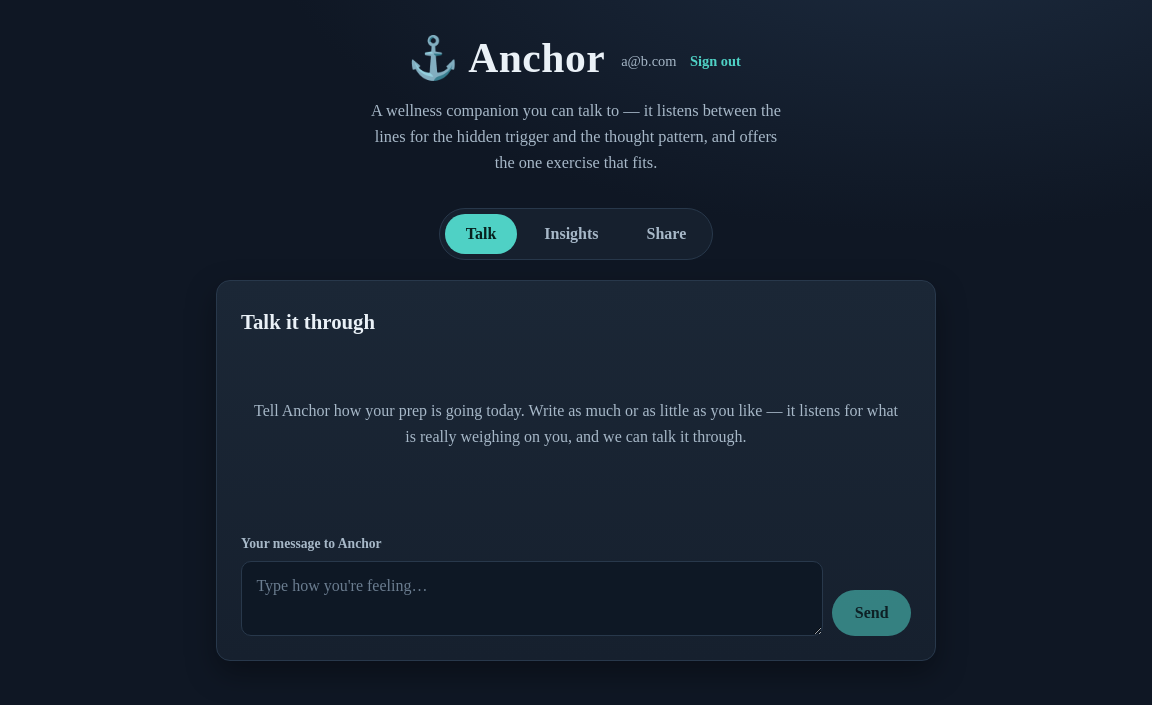
it: App › shows the crisis panel with a helpline on a crisis turn
expect the heading "Talk it through" is shown: met, box [241,310,375,333]
Step 1. Type "I want to give up" into the text box labelled "Your message to Anchor" → (532, 598), box [241,561,823,636]
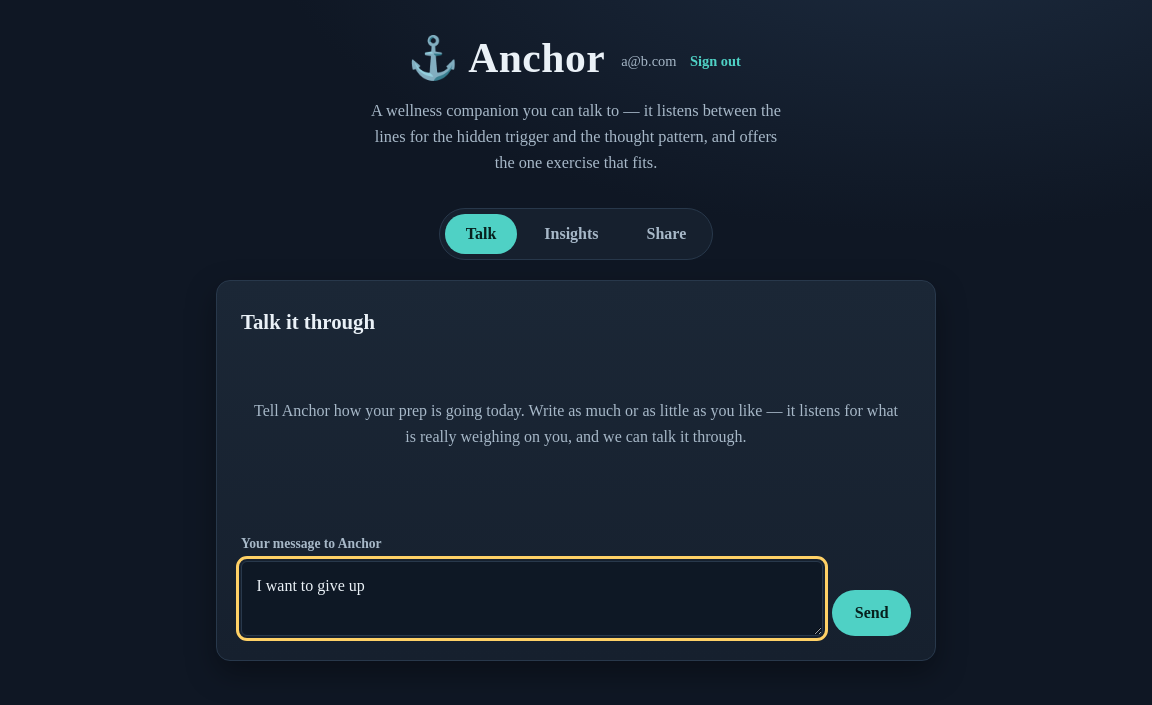
Step 2. Click the button "Send" → (872, 613), box [832,590,911,636]
(page scrolled)
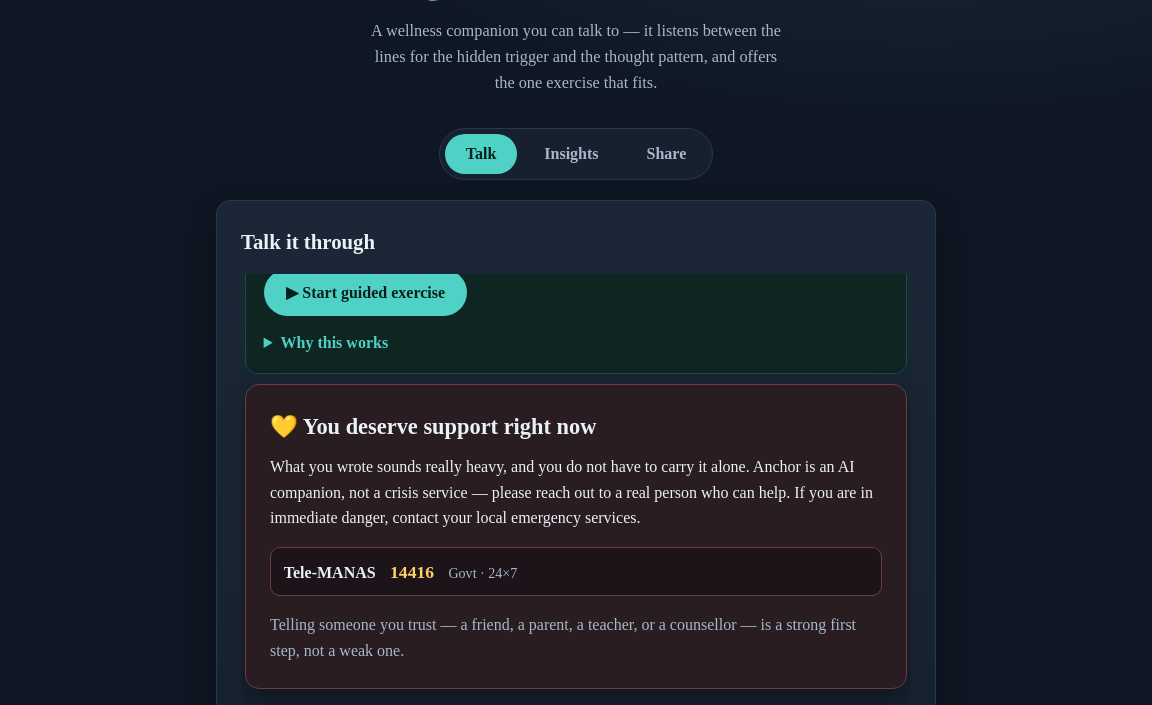
expect the message shows "deserve support": met, box [303,414,596,439]
expect the link "14416" is shown: met, box [390,558,434,586]
